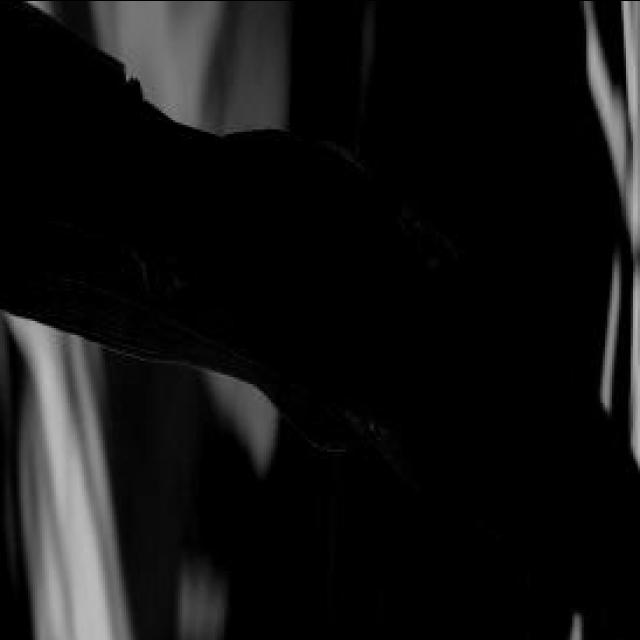Leaf_Blast: (66, 199, 212, 355), (350, 161, 474, 292), (290, 364, 432, 472)
